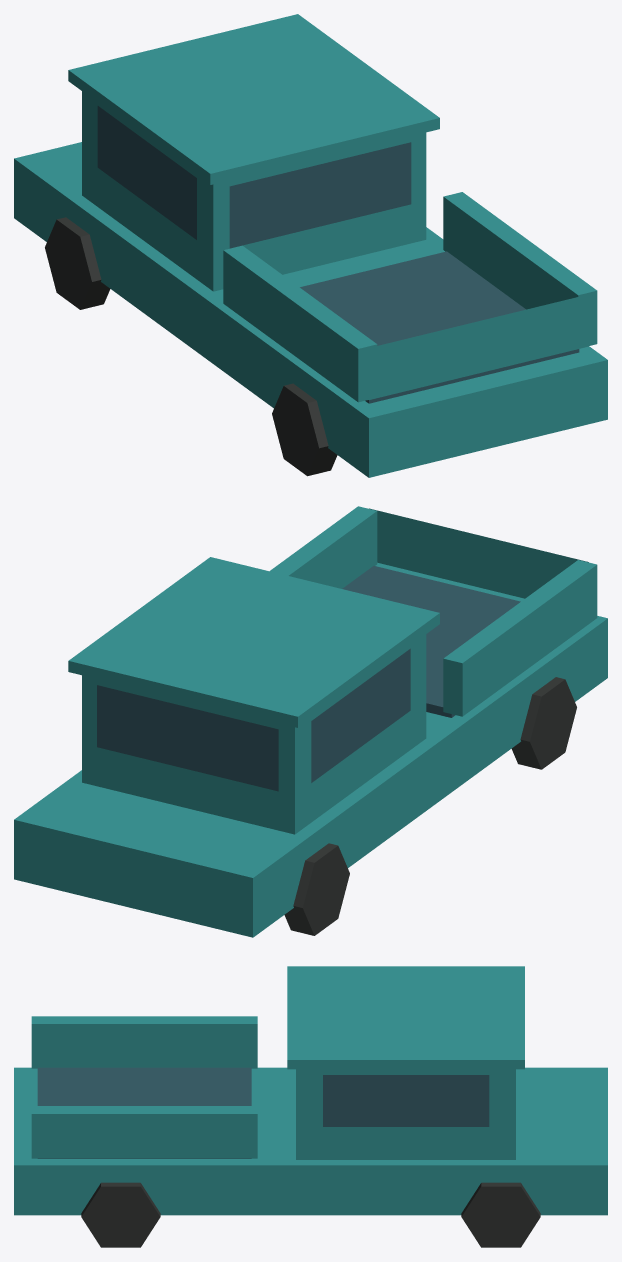
The model's file is pickup_far.glb.
3 renders of one model, top to bottom at view 1: azimuth 30°, elevation 25°; view 2: azimuth 150°, elevation 25°; view 3: azimuth 270°, elevation 25°, orthographic. The views are drawn at different scales.
Parts seen in each view (by area): view 1: PickupModel traffic_teal, PickupModel traffic_glass, PickupModel traffic_rubber; view 2: PickupModel traffic_teal, PickupModel traffic_glass, PickupModel traffic_rubber; view 3: PickupModel traffic_teal, PickupModel traffic_glass, PickupModel traffic_rubber.
Boxes of the visible parts, x1,y1,x2,y2 form: PickupModel traffic_teal: [14, 14, 607, 477]; PickupModel traffic_glass: [97, 106, 579, 403]; PickupModel traffic_rubber: [45, 217, 337, 476]; PickupModel traffic_teal: [14, 506, 607, 937]; PickupModel traffic_glass: [97, 566, 520, 791]; PickupModel traffic_rubber: [284, 677, 576, 935]; PickupModel traffic_teal: [14, 966, 607, 1215]; PickupModel traffic_glass: [37, 1067, 489, 1158]; PickupModel traffic_rubber: [81, 1182, 540, 1247].
Size of the model in its own units: 2.21 by 1.78 by 5.26.
